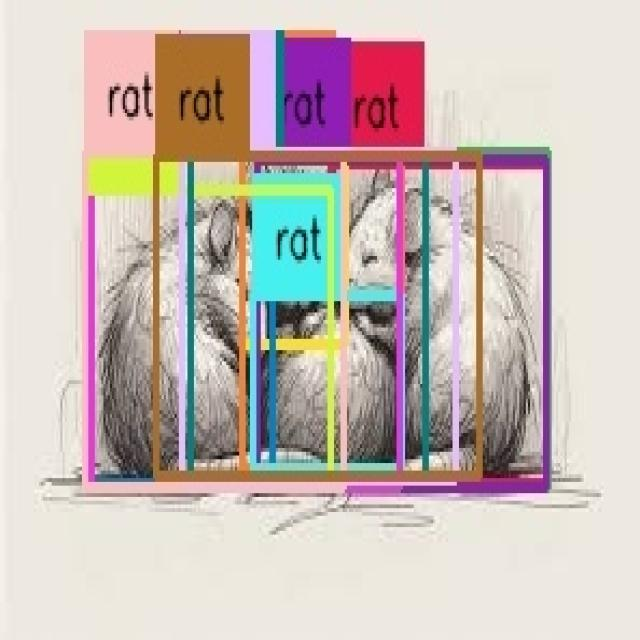rat: (85, 155, 549, 490), (157, 154, 480, 474), (90, 154, 401, 486), (256, 162, 548, 486), (181, 152, 455, 480), (85, 152, 344, 488), (192, 152, 426, 476), (84, 188, 330, 490), (332, 164, 547, 484), (87, 188, 273, 486), (242, 154, 402, 470), (253, 298, 402, 470), (241, 150, 345, 347)
